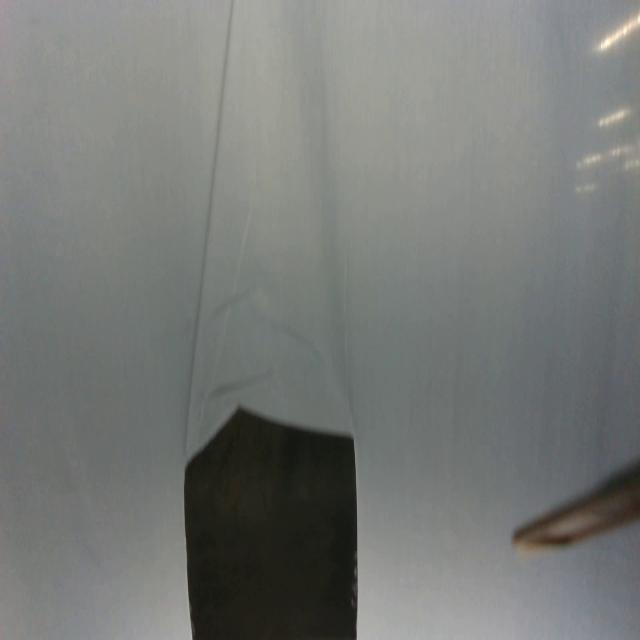crease: (178, 2, 234, 440)
hole: (184, 403, 358, 640)
